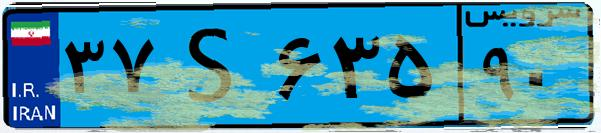0: (525, 38, 570, 115)
3: (330, 28, 385, 110), (57, 26, 110, 100)
5: (385, 28, 445, 110)
6: (270, 28, 330, 110)
7: (110, 28, 158, 98)
9: (475, 38, 525, 113)
S: (158, 12, 270, 120)
